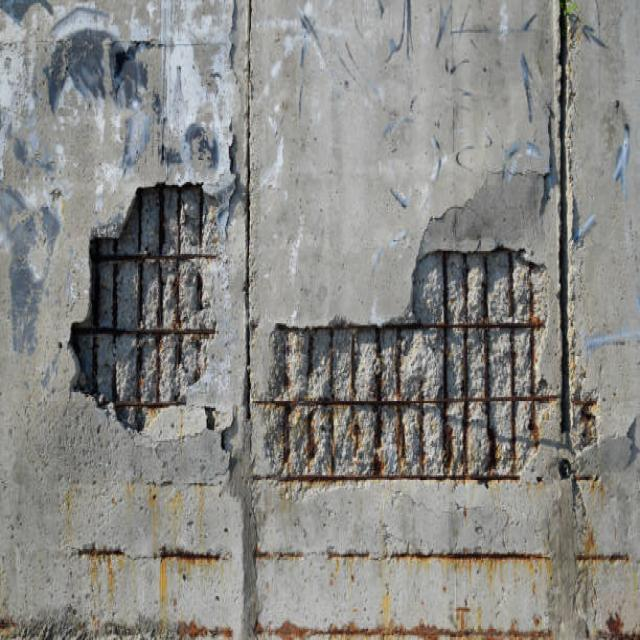Rebar: (251, 248, 559, 497), (68, 184, 222, 435)
